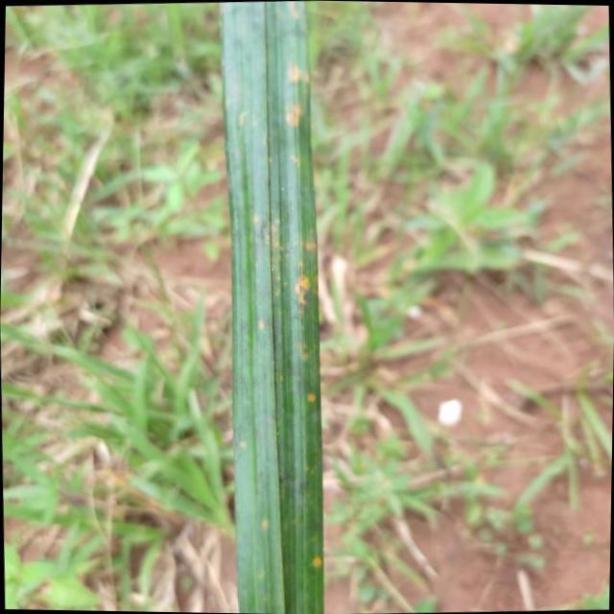Kalium: (211, 0, 325, 614)
